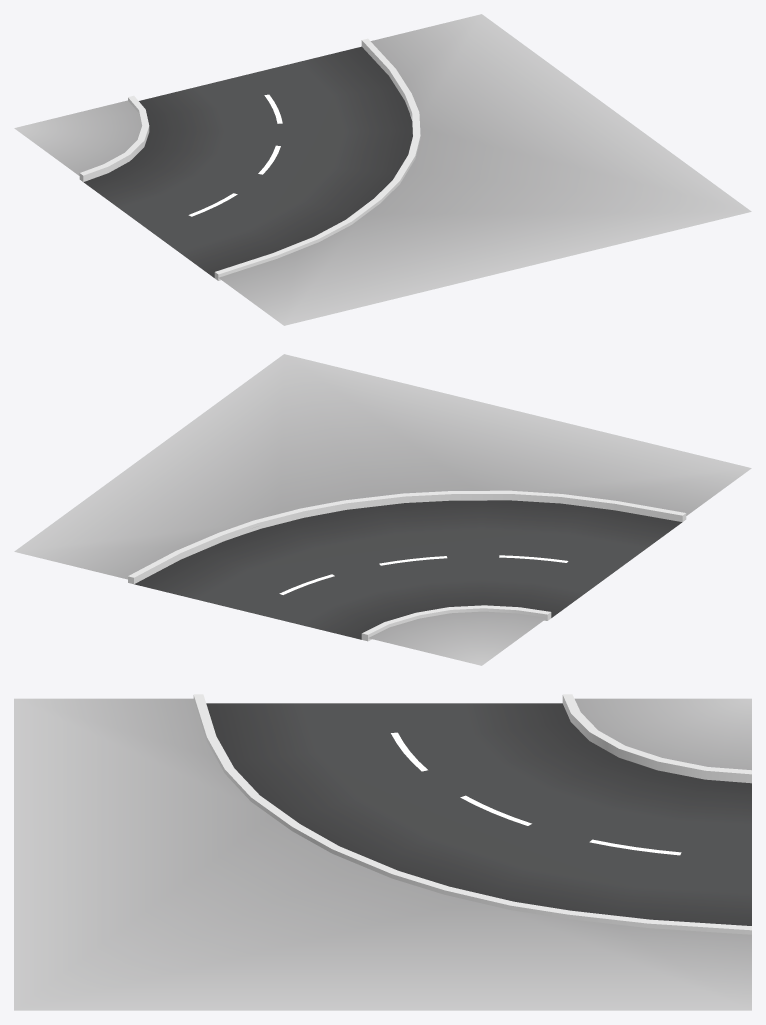
File: city2-road-013.glb
3 renders of one model, top to bottom at view 1: azimuth 30°, elevation 25°; view 2: azimuth 150°, elevation 25°; view 3: azimuth 270°, elevation 25°, orthographic. The views are drawn at different scales.
Visible parts, largest first — view 1: road_013; view 2: road_013; view 3: road_013.
Part boxes in pixels (left/top/right/bottom): road_013: left=14, top=14, right=751, bottom=325; road_013: left=14, top=354, right=751, bottom=665; road_013: left=14, top=694, right=751, bottom=1010.
Bounding box in the file's own units: 15 × 0.2 × 15.
Materials: 1 (1 with a texture image).
